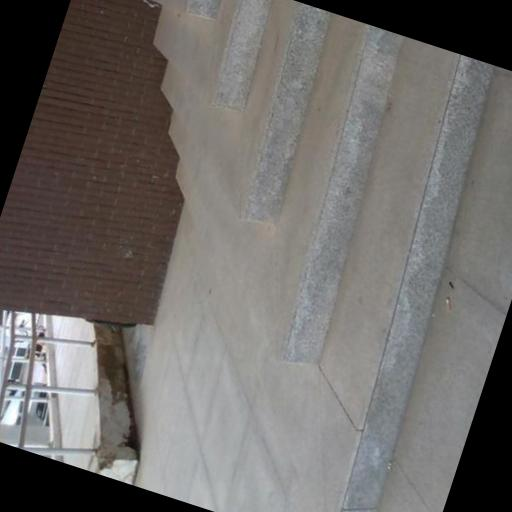stairs: (155, 0, 493, 511)
